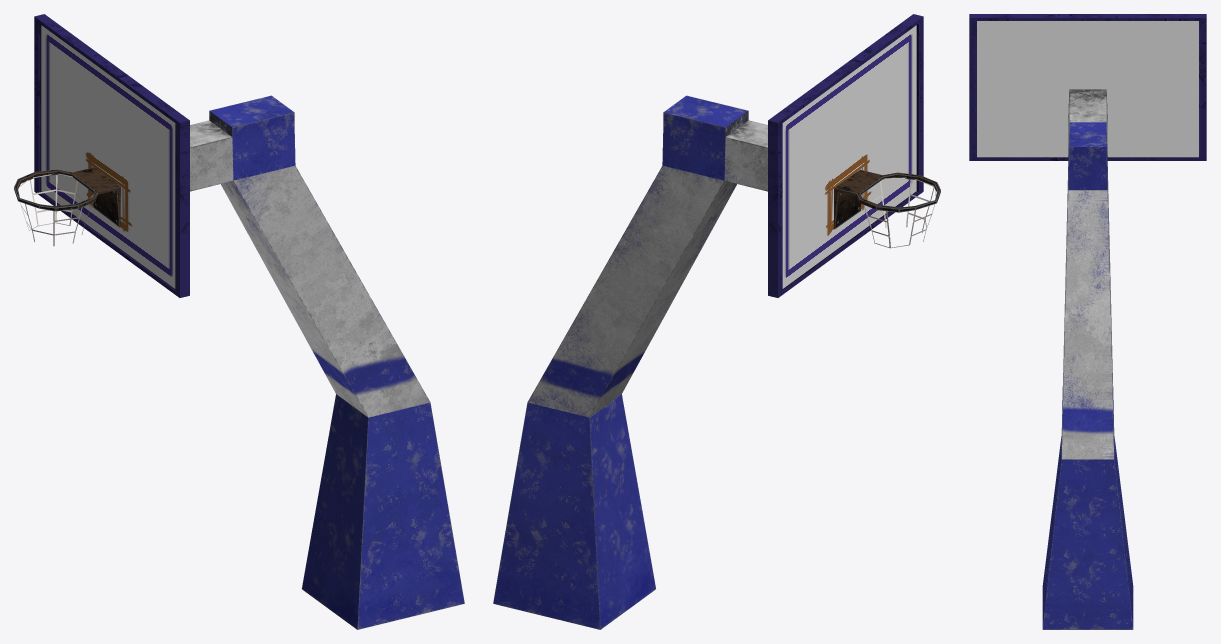
File: Court Rim.glb
3 views of the same model, side by side, from view 1: azimuth 30°, elevation 25°; view 2: azimuth 150°, elevation 25°; view 3: azimuth 270°, elevation 25° (orthographic). The views are drawn at different scales.
Visible parts, largest first — view 1: Rim base, Rim Board, Ring.001, Circle; view 2: Rim base, Rim Board, Ring.001, Circle; view 3: Rim Board, Rim base.
Boxes of the visible parts, x1=… form: Rim base: x1=190, y1=95, x2=464, y2=629; Rim Board: x1=34, y1=14, x2=189, y2=297; Ring.001: x1=14, y1=167, x2=120, y2=227; Circle: x1=18, y1=173, x2=92, y2=246; Rim base: x1=493, y1=95, x2=767, y2=629; Rim Board: x1=768, y1=14, x2=923, y2=297; Ring.001: x1=833, y1=169, x2=940, y2=229; Circle: x1=861, y1=177, x2=935, y2=248; Rim Board: x1=969, y1=14, x2=1206, y2=160; Rim base: x1=1042, y1=89, x2=1133, y2=629.
Size of the model in its own units: 13.43 by 18.26 by 8.1.
4 materials, 3 textured.
